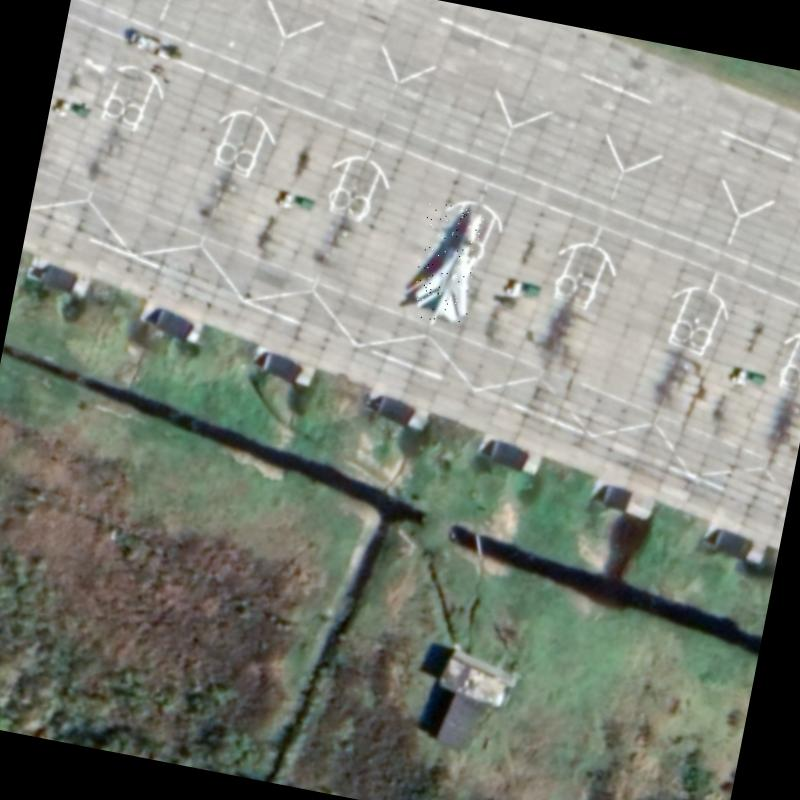A20: (407, 201, 486, 326)
